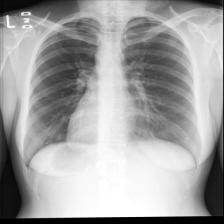normal: (19, 11, 205, 172)
